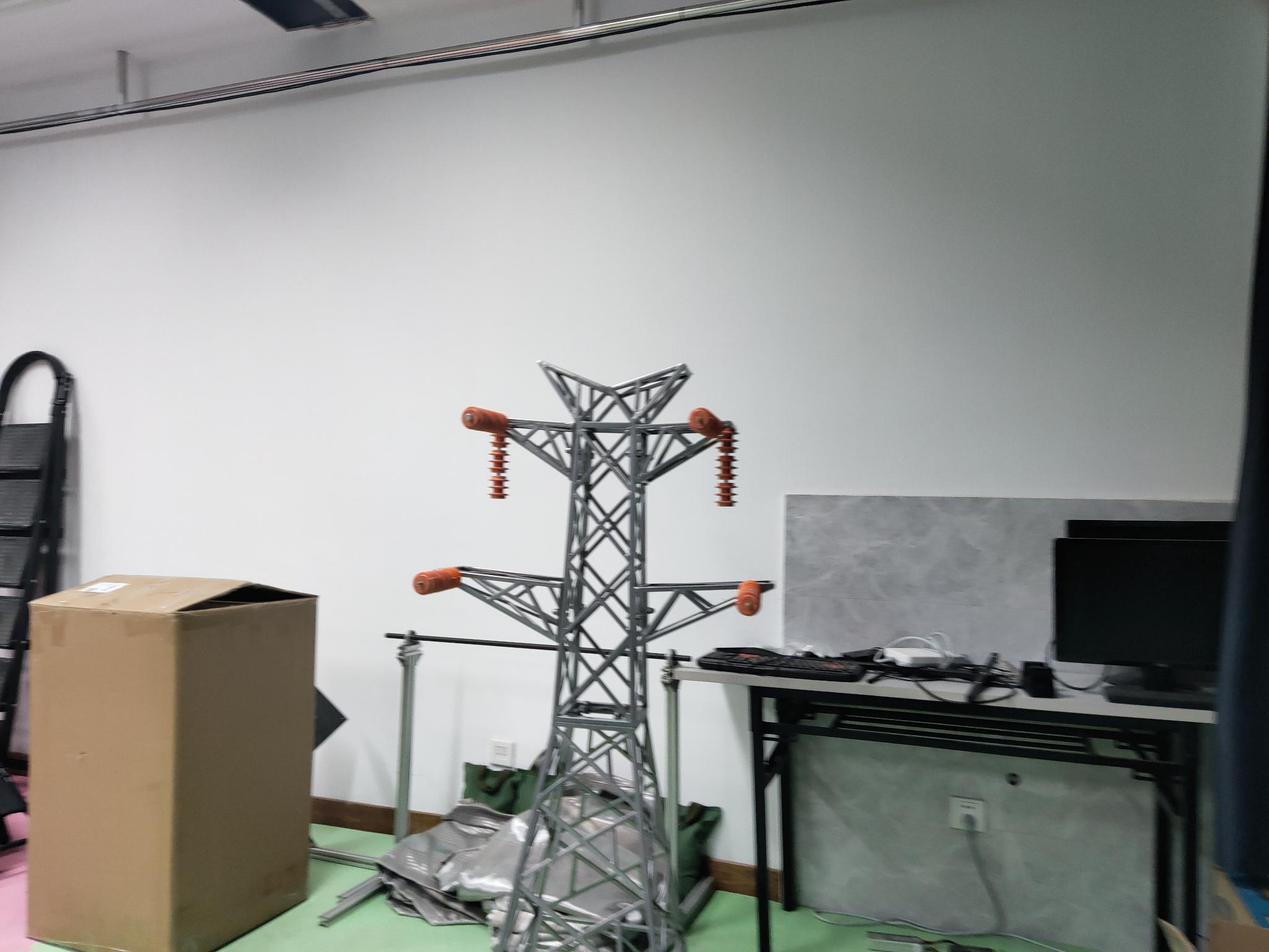tower: (454, 361, 765, 952)
